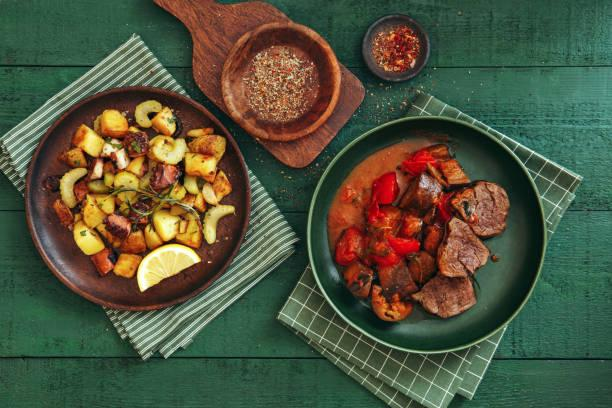Braised Crucian Carp: (305, 115, 540, 352), (26, 86, 248, 311)
